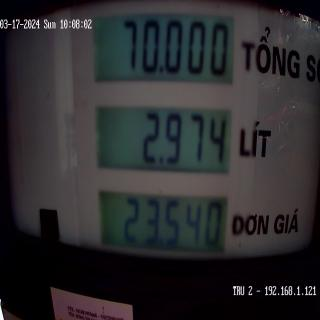screen: (89, 2, 239, 276)
